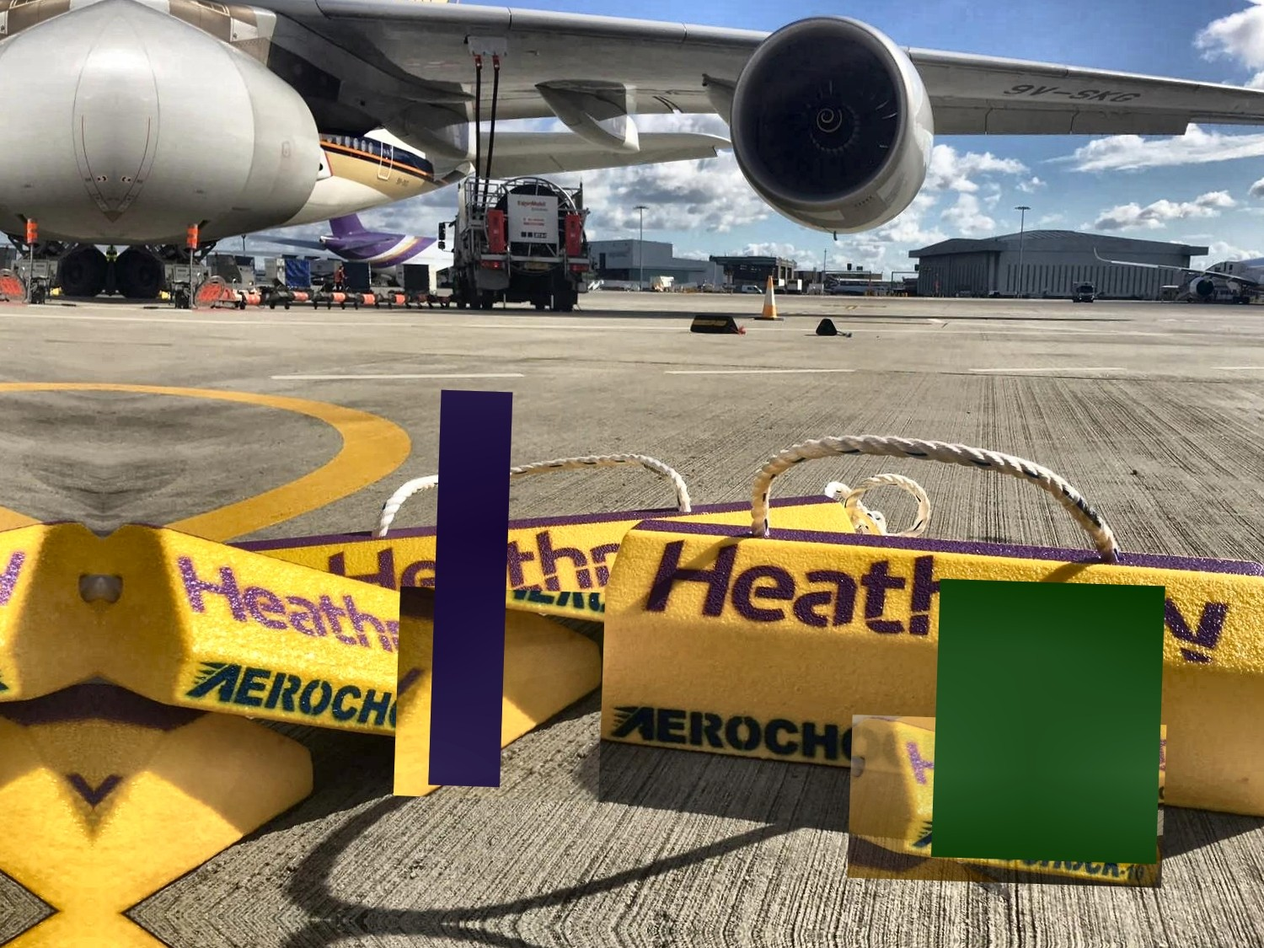chock: (587, 510, 1264, 824), (210, 474, 859, 661), (99, 520, 526, 752), (847, 715, 1167, 888), (90, 687, 318, 919), (393, 586, 605, 802), (0, 680, 97, 912)
